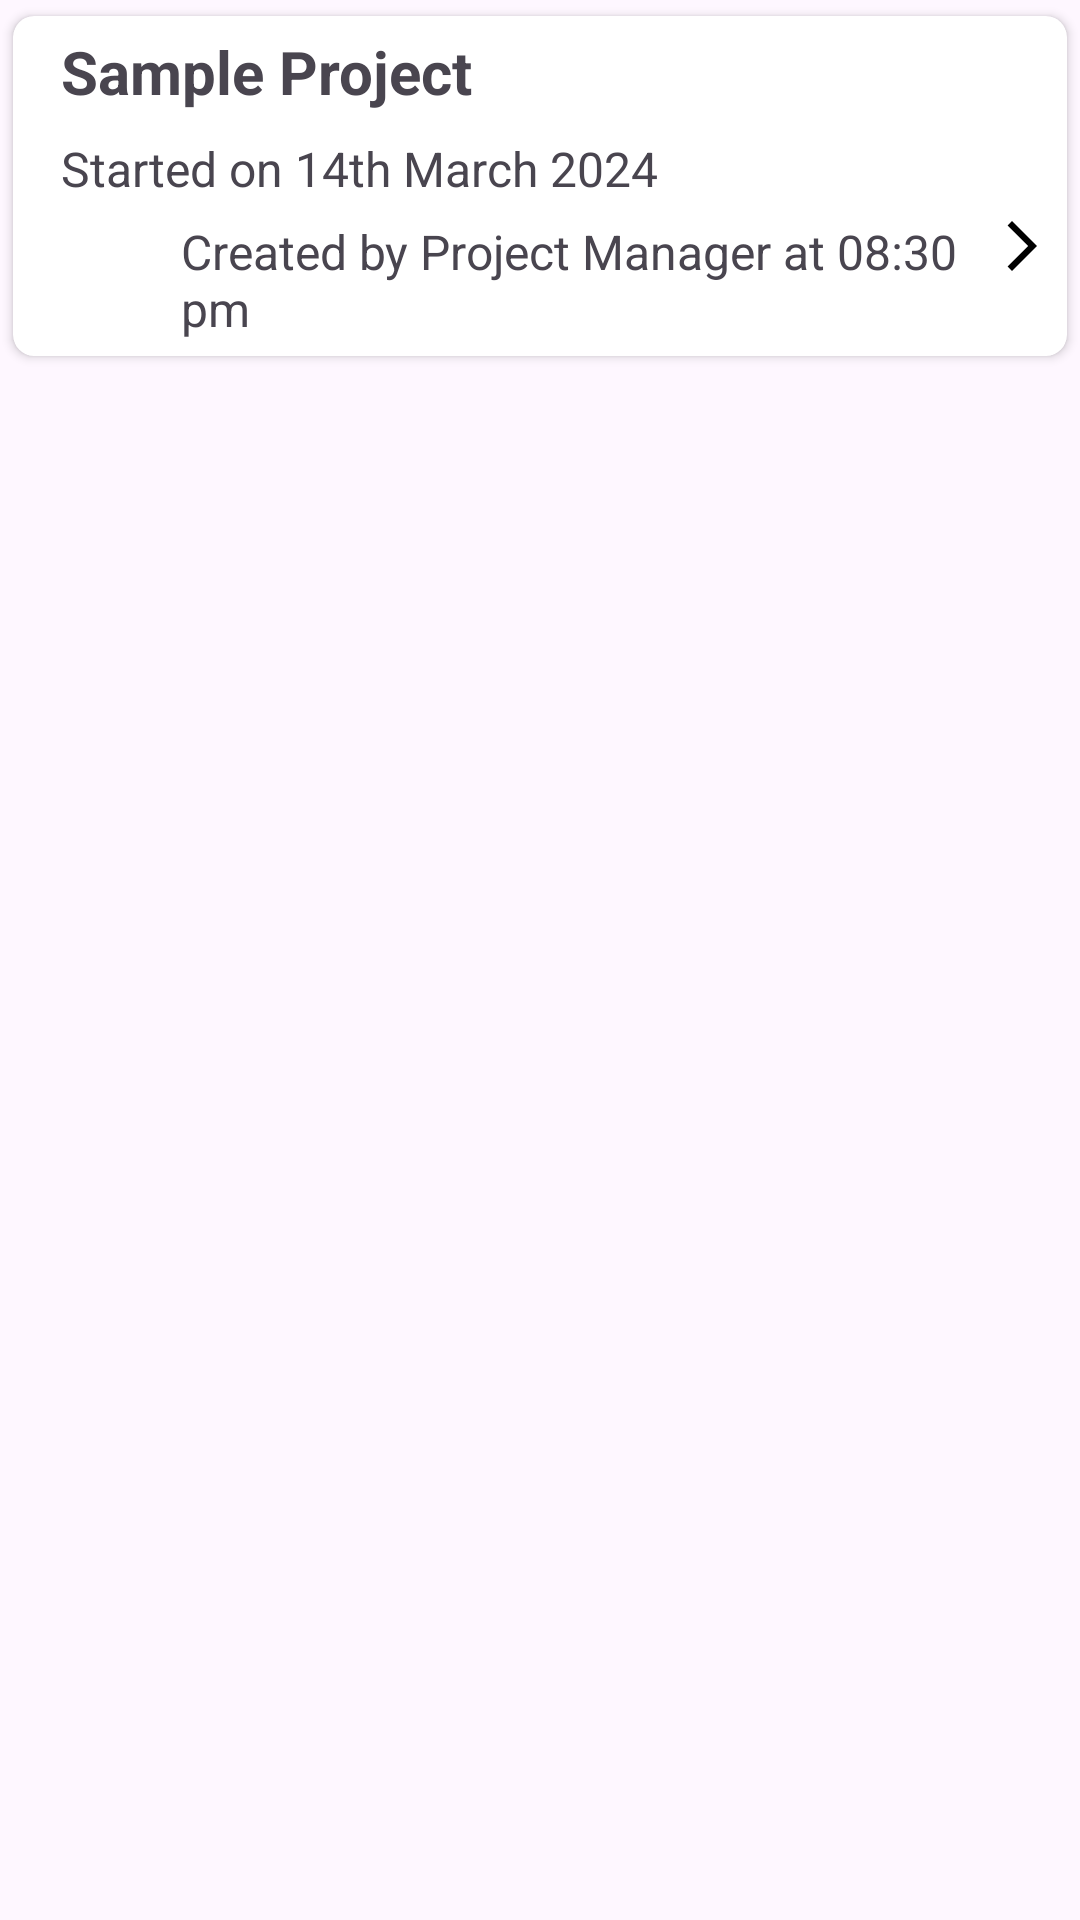

Point at icon controls on the screen. Image size 1080px x 1920px, points as [x,y].
arrow forward: [1022,246]
